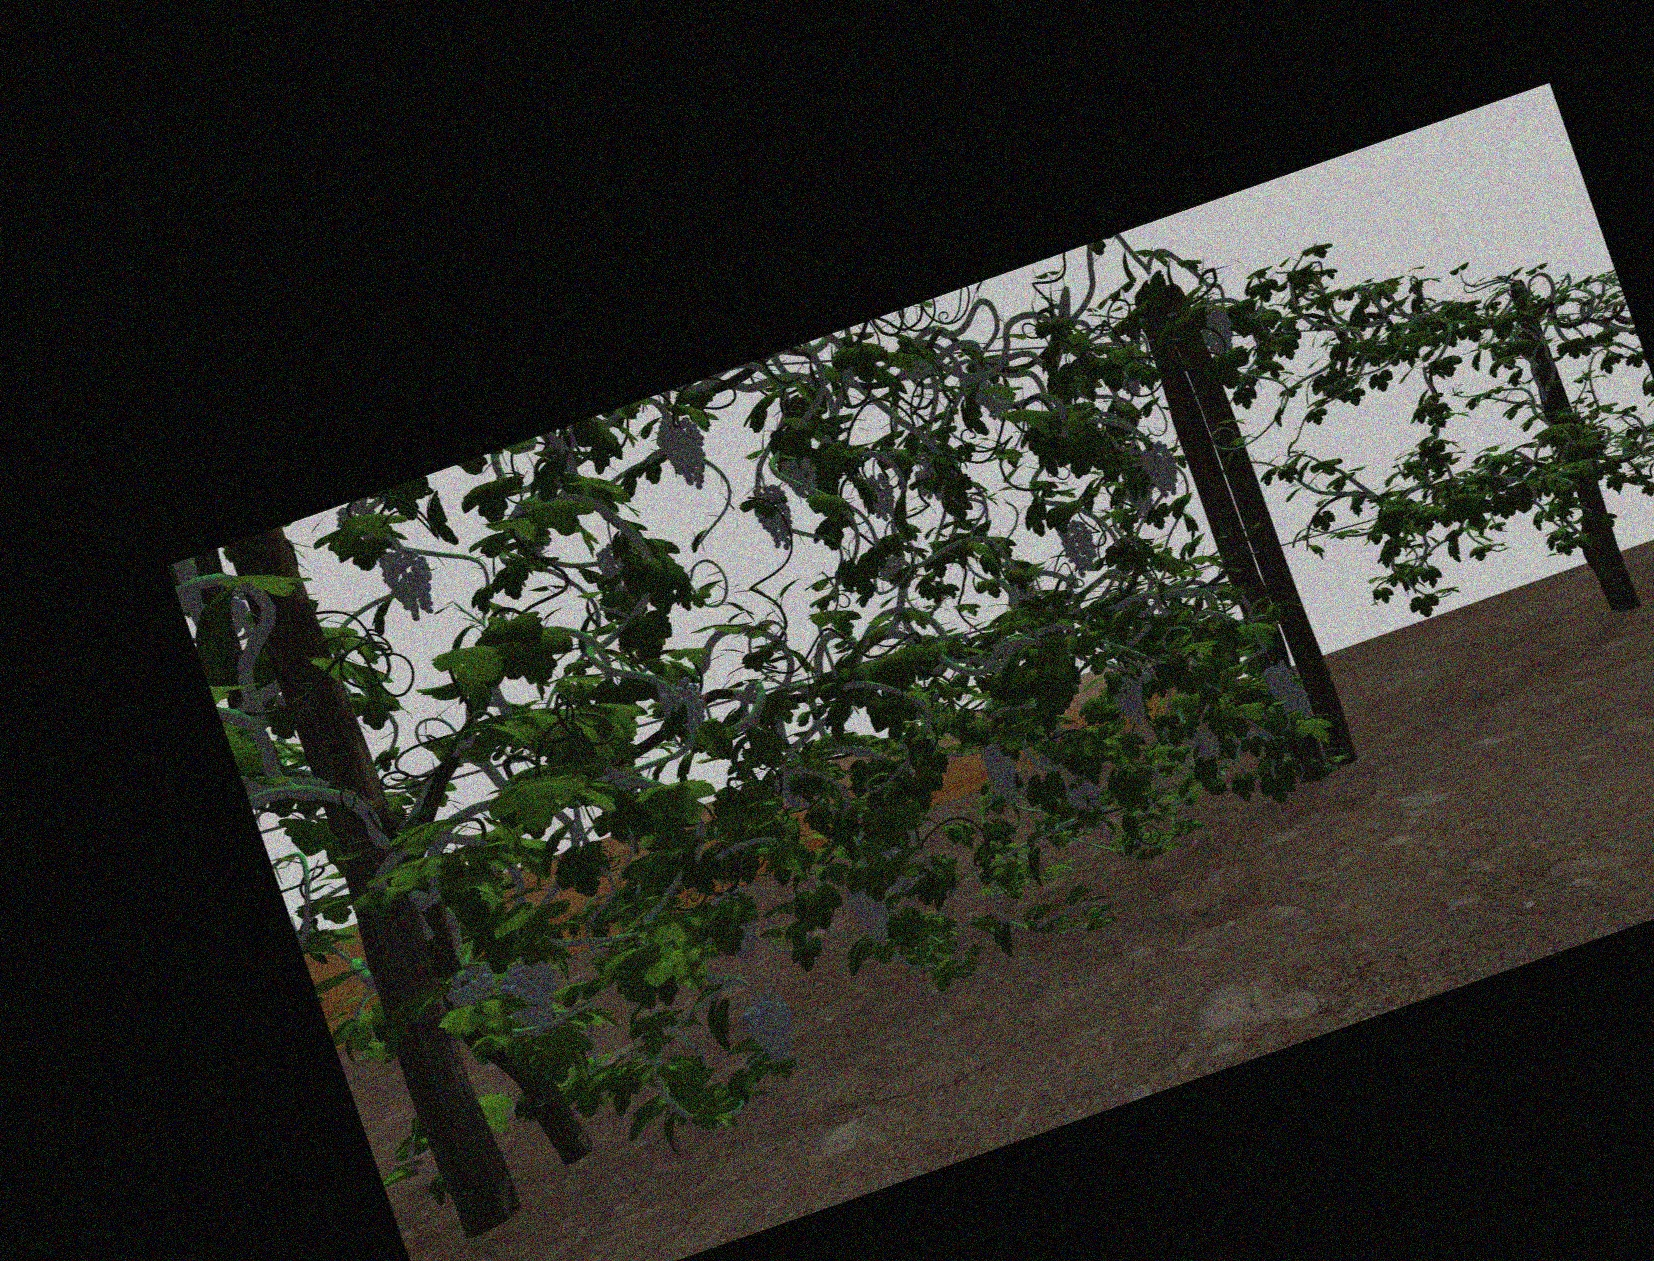grape: (503, 959, 561, 1034), (746, 992, 795, 1065), (384, 547, 433, 619), (665, 419, 708, 491), (665, 676, 706, 748), (755, 483, 793, 552), (851, 885, 891, 948), (444, 962, 497, 1007), (1144, 438, 1177, 498), (987, 742, 1017, 804), (861, 472, 895, 522), (1063, 519, 1095, 572), (1063, 766, 1099, 812), (1112, 676, 1145, 725), (977, 379, 1012, 424), (1200, 307, 1233, 352), (783, 453, 814, 499), (1191, 721, 1218, 762), (1265, 664, 1295, 699), (1282, 693, 1312, 721)
